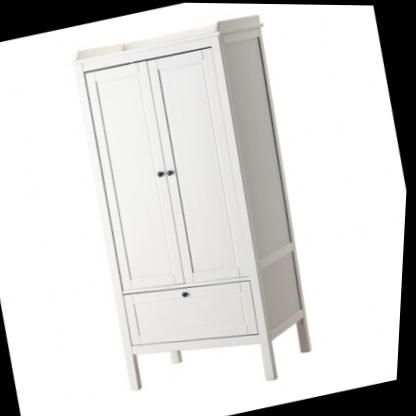Cabinet: (51, 4, 341, 414)
